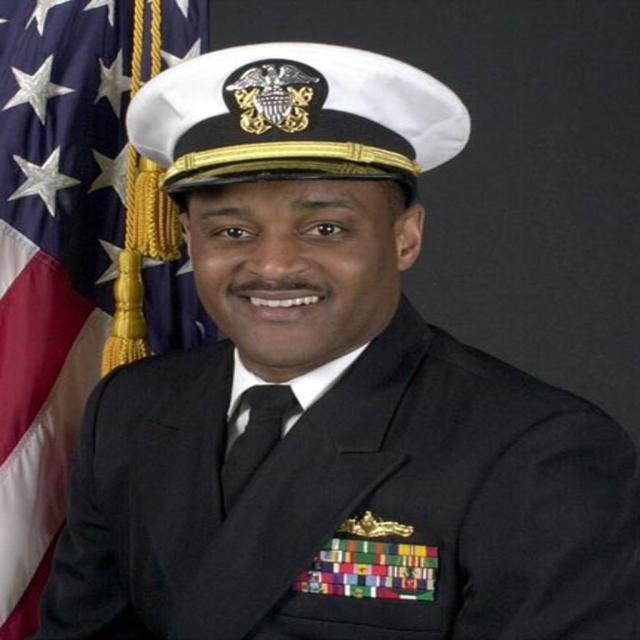Face: (173, 164, 419, 378)
